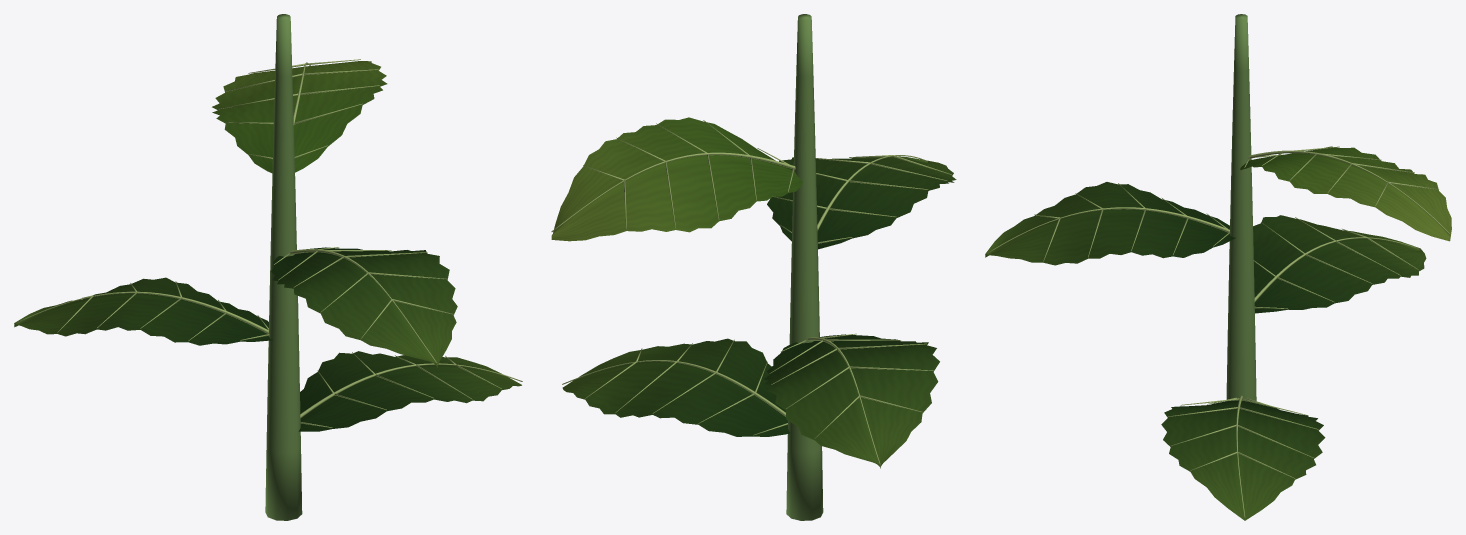
The model's file is rose-03.glb.
3 views of the same model, side by side, from view 1: azimuth 30°, elevation 25°; view 2: azimuth 150°, elevation 25°; view 3: azimuth 270°, elevation 25° (orthographic). The views are drawn at different scales.
Visible parts, largest first — view 1: rose_stage_03_leaf_veins.004, rose_stage_03_stem_fibres.004, rose_stage_03_young_leaf.004, rose_stage_03_raised_midveins.004; view 2: rose_stage_03_leaf_veins.004, rose_stage_03_young_leaf.004, rose_stage_03_stem_fibres.004, rose_stage_03_raised_midveins.004; view 3: rose_stage_03_leaf_veins.004, rose_stage_03_stem_fibres.004, rose_stage_03_young_leaf.004, rose_stage_03_raised_midveins.004.
Boxes of the visible parts, bbox=[...] form: rose_stage_03_leaf_veins.004: bbox=[14, 247, 521, 431]; rose_stage_03_stem_fibres.004: bbox=[265, 14, 302, 520]; rose_stage_03_young_leaf.004: bbox=[212, 61, 387, 173]; rose_stage_03_raised_midveins.004: bbox=[14, 59, 522, 427]; rose_stage_03_leaf_veins.004: bbox=[562, 156, 956, 468]; rose_stage_03_young_leaf.004: bbox=[551, 117, 802, 241]; rose_stage_03_stem_fibres.004: bbox=[786, 14, 823, 520]; rose_stage_03_raised_midveins.004: bbox=[551, 120, 951, 465]; rose_stage_03_leaf_veins.004: bbox=[985, 182, 1426, 520]; rose_stage_03_stem_fibres.004: bbox=[1226, 14, 1256, 401]; rose_stage_03_young_leaf.004: bbox=[1240, 146, 1451, 241]; rose_stage_03_raised_midveins.004: bbox=[985, 146, 1449, 517].
Bounding box in the file's own units: 0.1044 × 0.1183 × 0.1091.
Materials: 4 (2 with a texture image).
